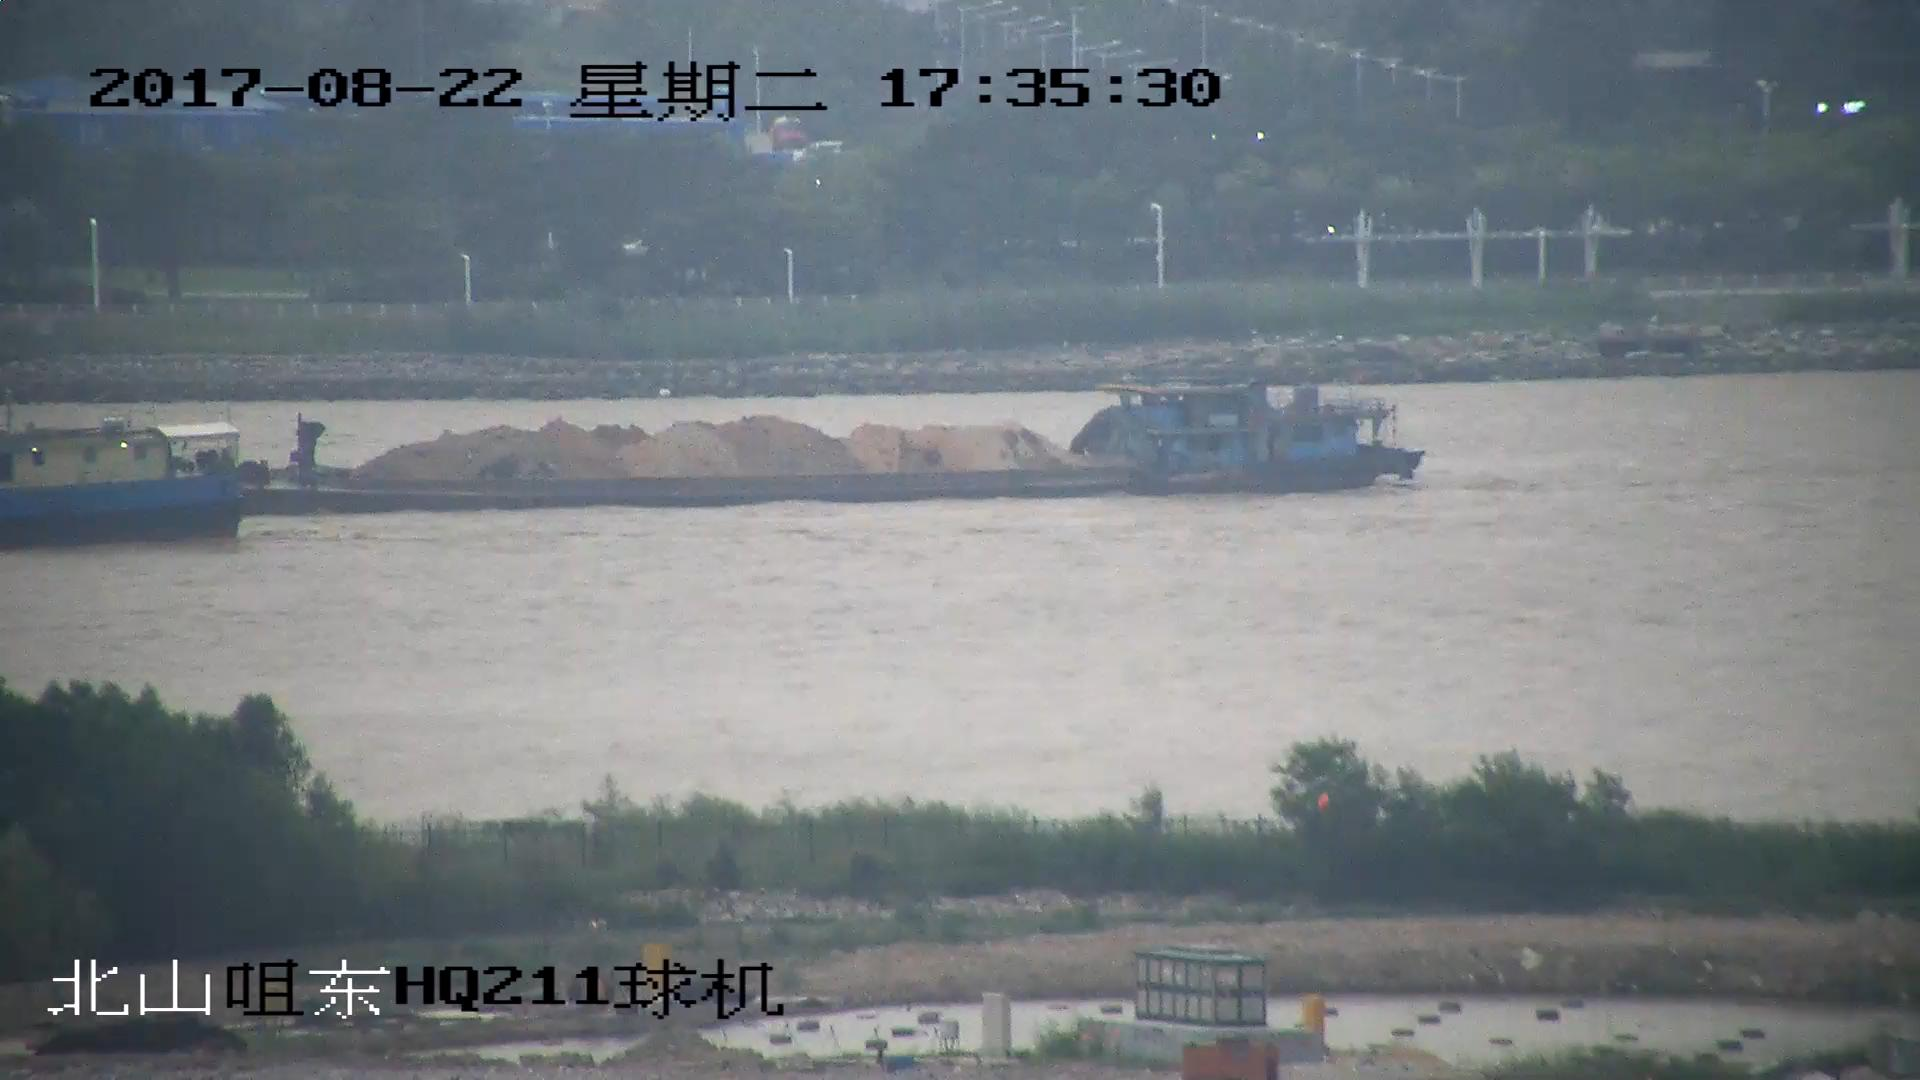fishing boat: (1, 421, 265, 544)
ore carrier: (1, 379, 1425, 497)
